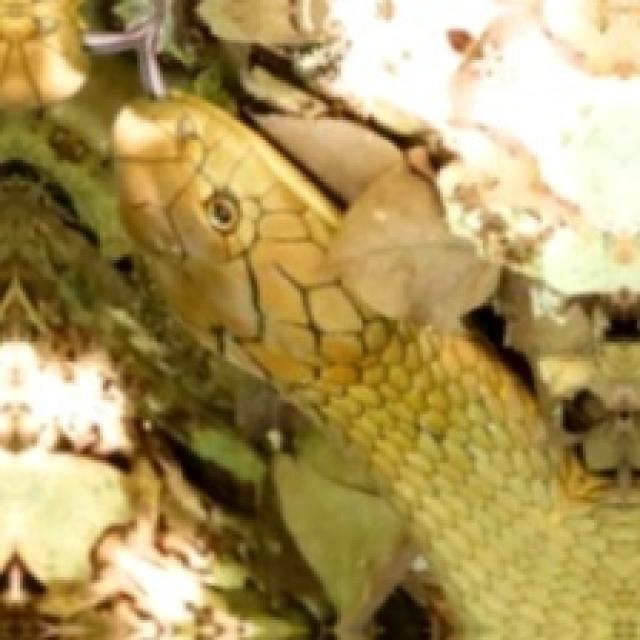king cobra: (114, 94, 637, 637), (317, 117, 440, 271), (420, 220, 494, 314)
